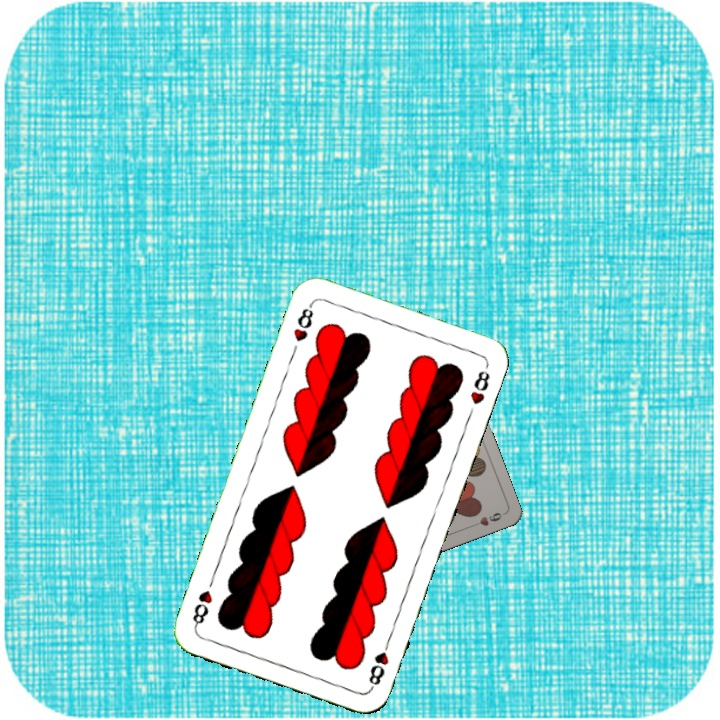H8: (364, 634, 393, 692), (289, 299, 316, 345)
